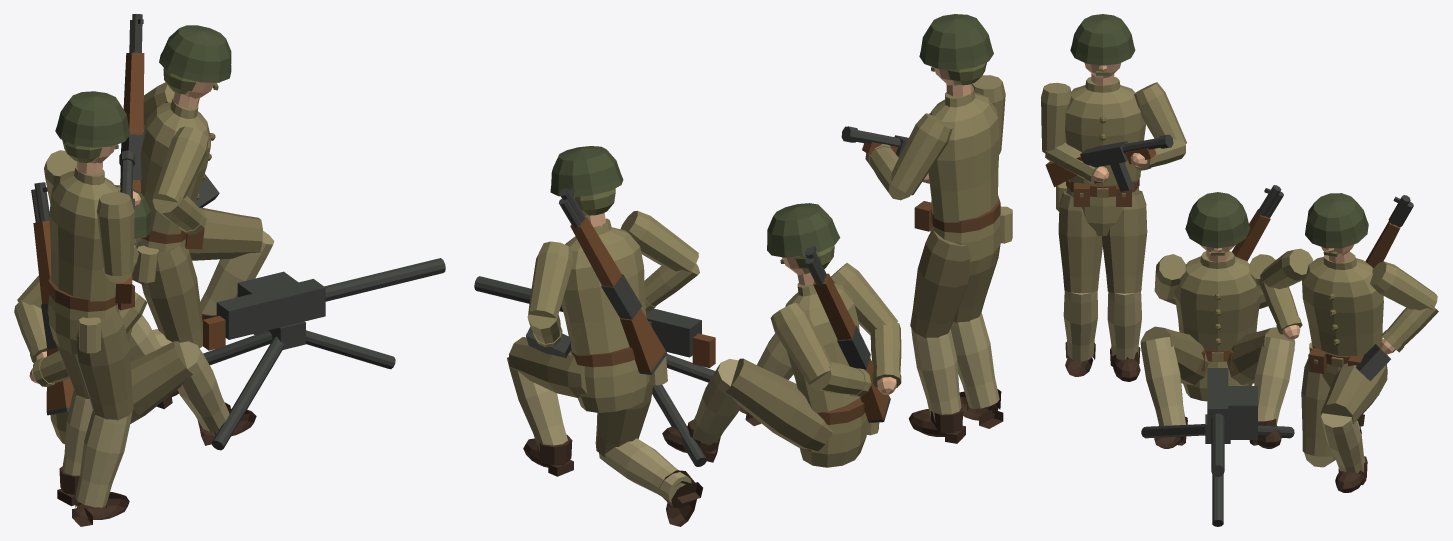
Rendered from us_machine_gun_team.obj.
3 renders of one model, left to right at view 1: azimuth 30°, elevation 25°; view 2: azimuth 150°, elevation 25°; view 3: azimuth 270°, elevation 25°, orthographic. The views are drawn at different scales.
Size of the model in its own units: 2.15 by 2 by 1.89.
